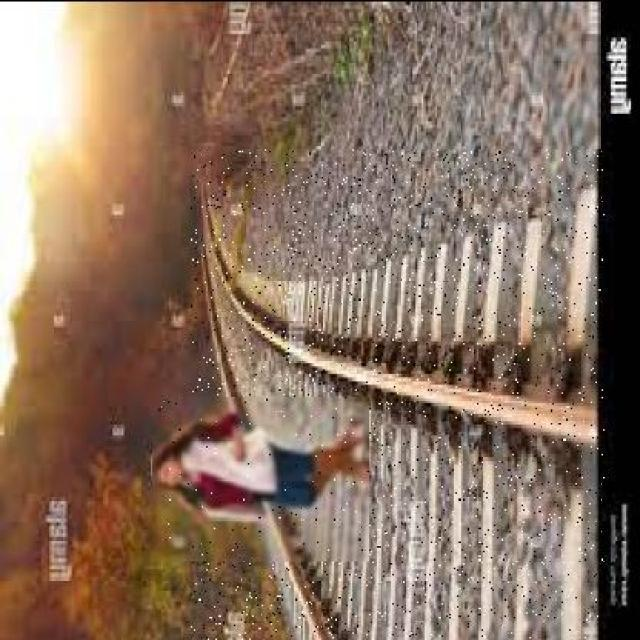danger: (153, 395, 370, 560)
rail: (192, 149, 605, 638)
